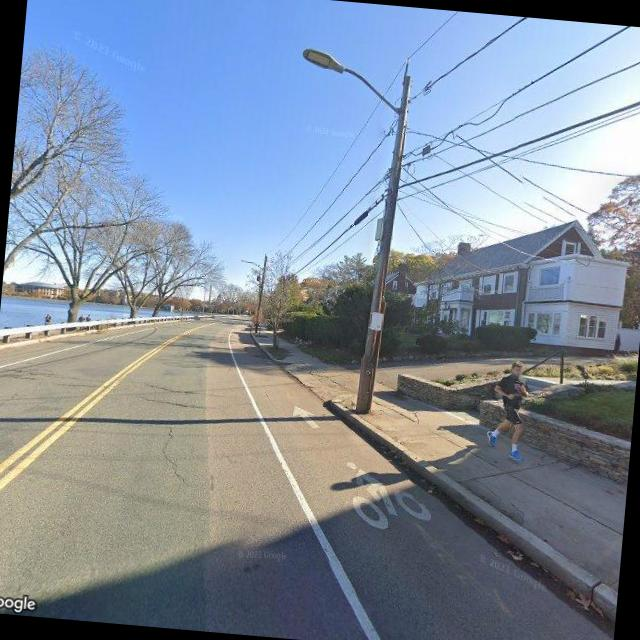pothole: (154, 418, 188, 486)
